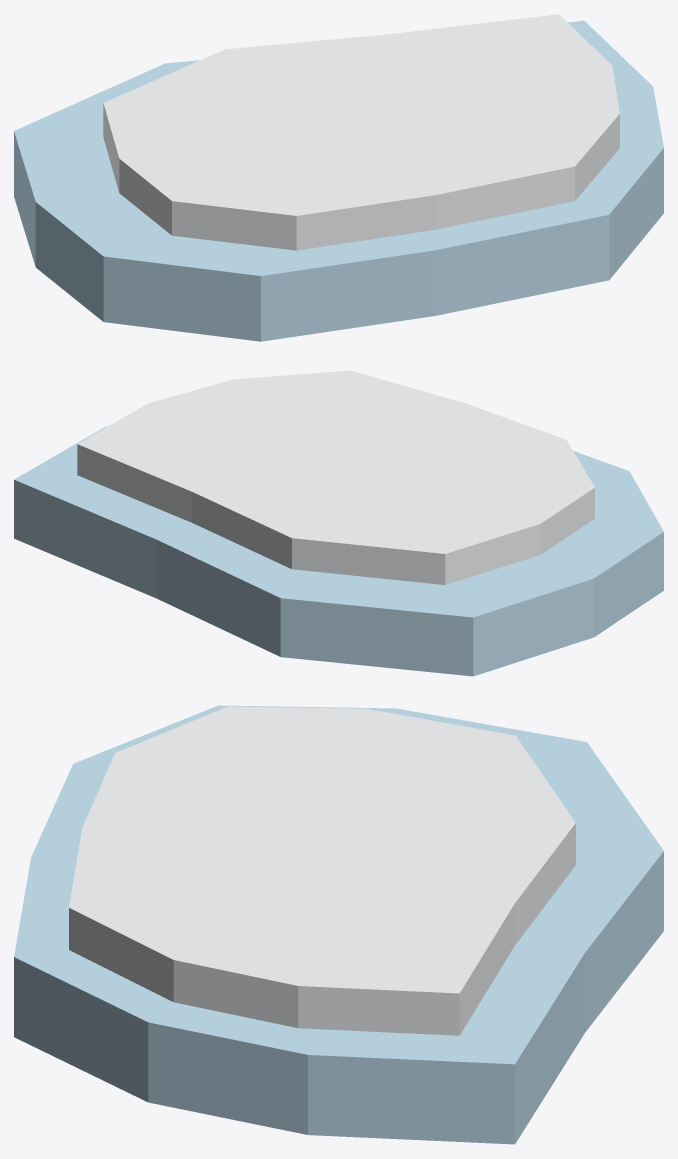
Rendered from SpleefFloe.glb.
3 views of the same model, one above another, from view 1: azimuth 30°, elevation 25°; view 2: azimuth 150°, elevation 25°; view 3: azimuth 270°, elevation 25° (orthographic). The views are drawn at different scales.
Visible parts, largest first — view 1: Snow, Ice; view 2: Snow, Ice; view 3: Snow, Ice.
Part boxes in pixels (x1,y1,x2,y2): Snow: (103,14,619,250); Ice: (14,20,663,341); Snow: (77,370,594,584); Ice: (14,426,663,676); Snow: (69,706,575,1035); Ice: (14,705,663,1144).
Bounding box in the file's own units: 8.64 × 1.38 × 6.61.
